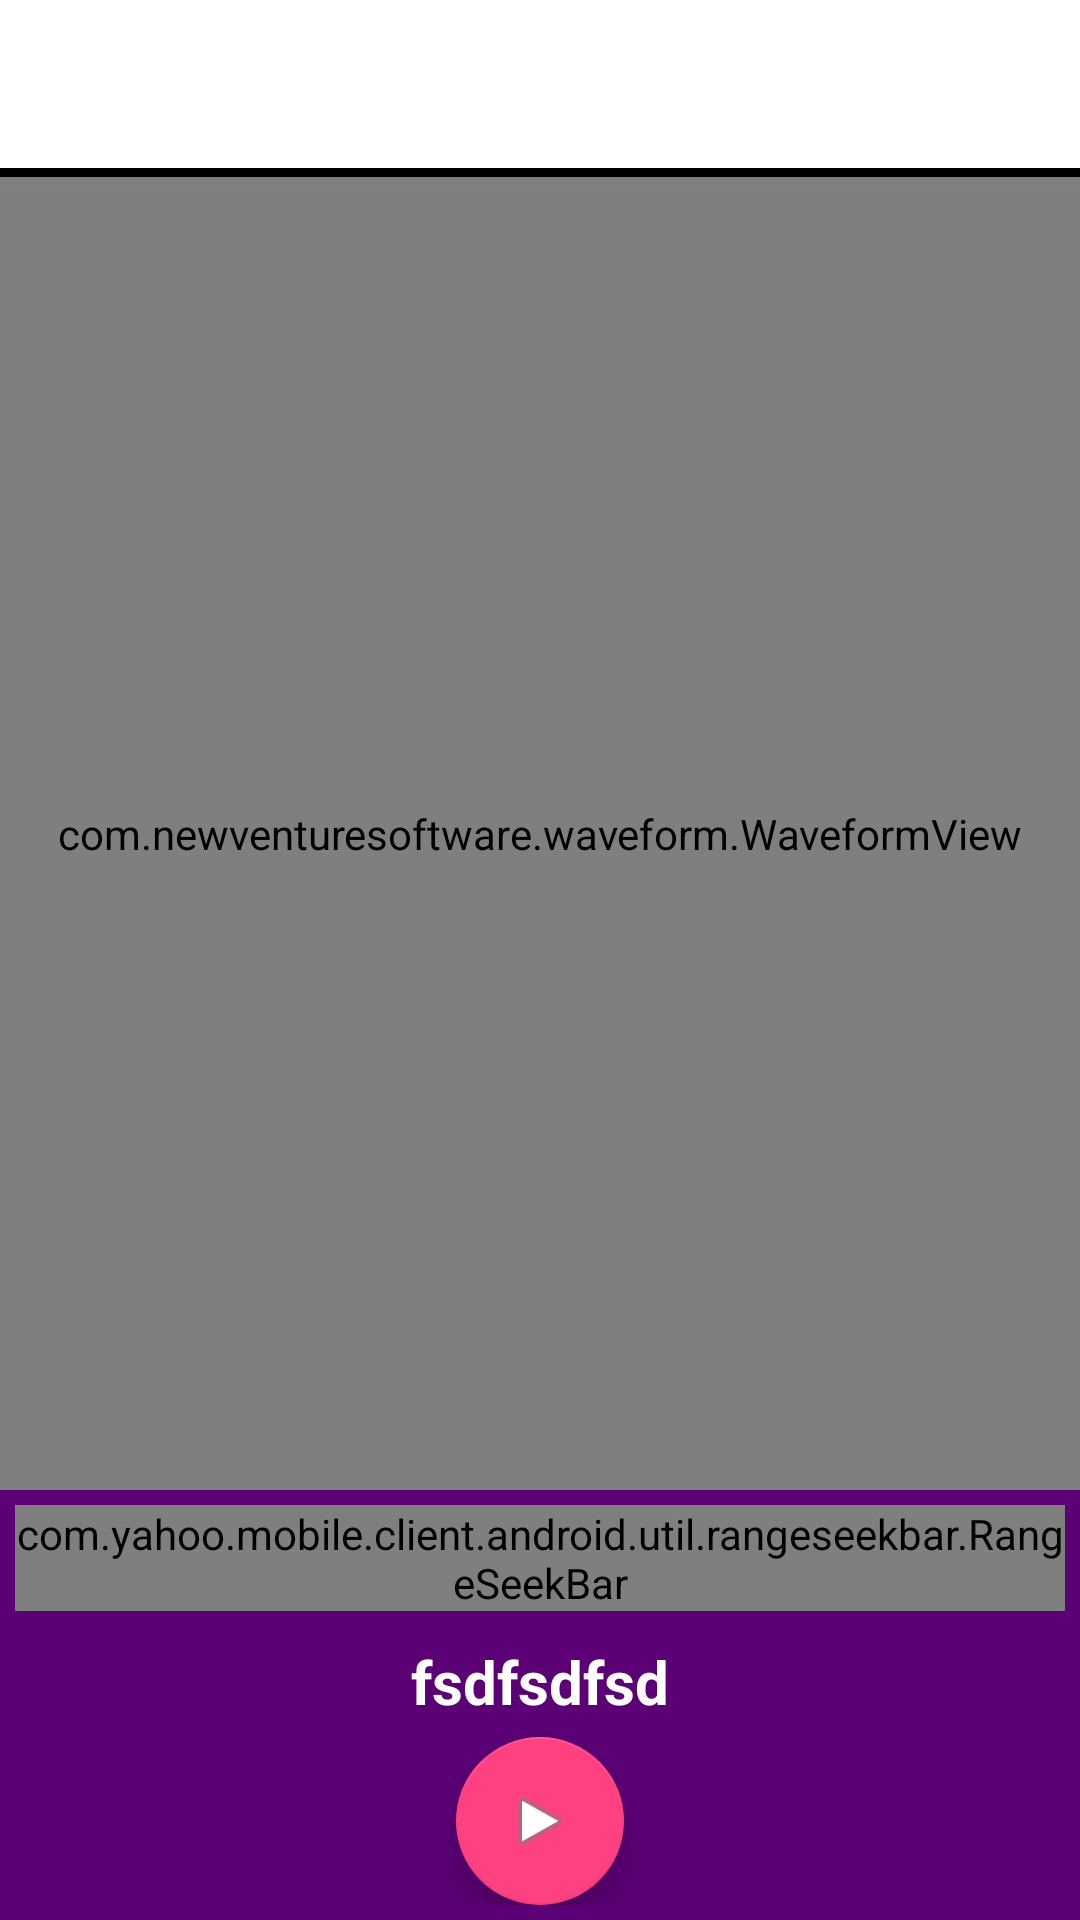

Screen size 1080 × 1920. Icon name, then its center in pixels as (x,y):
play: (540,1821)
